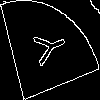Y: (25, 25, 69, 71)
